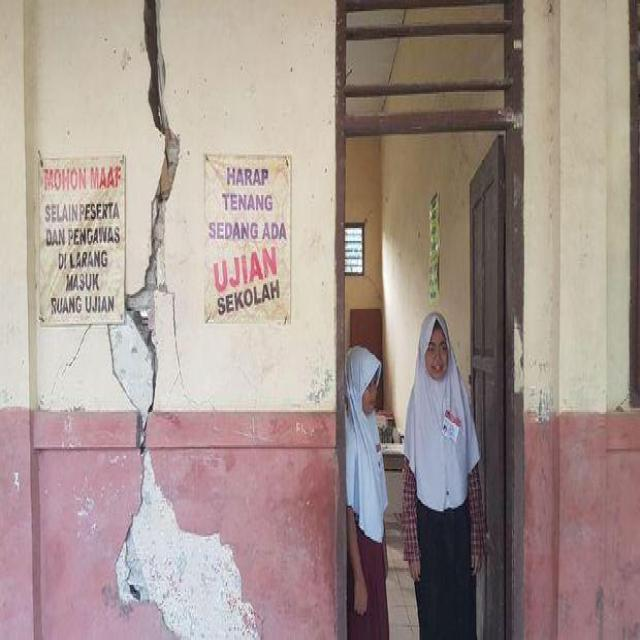crack: (108, 0, 180, 470), (116, 454, 262, 638)
